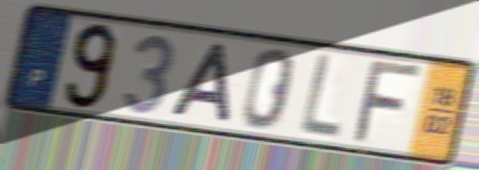0: (239, 46, 298, 133)
3: (121, 31, 179, 118)
9: (60, 20, 122, 113)
A: (166, 40, 234, 127)
F: (348, 58, 428, 146)
L: (296, 51, 345, 143)
